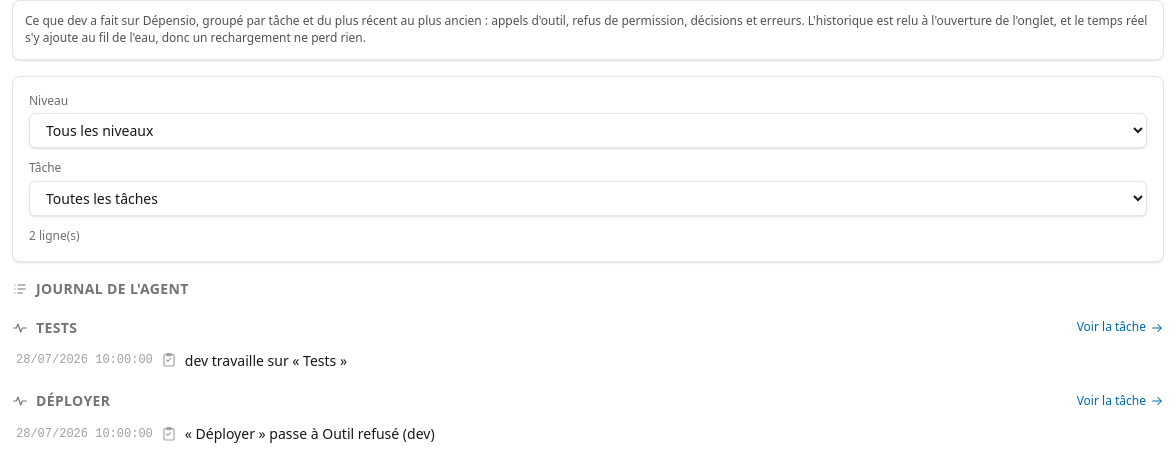
Test case: ③ le filtre par niveau isole une famille › isole les refus d'un seul choix
Select "Refus" in the dropdown labelled "Niveau": (588, 131) [29,113,1147,148]
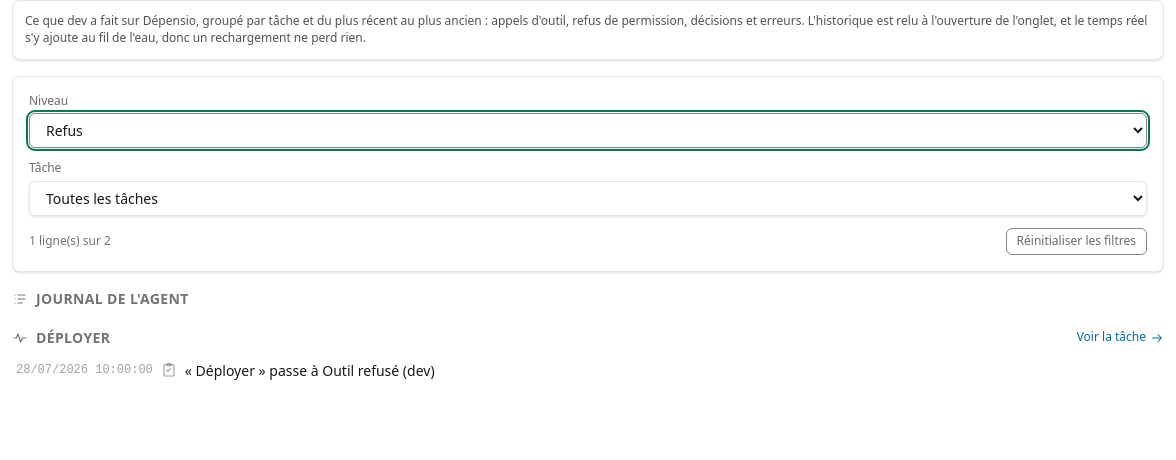
Expected: the element "Déployer" is shown, [12,326,1164,383]
Expected: the heading "Tests" is gone
Expected: the text "1 ligne(s) sur 2" is shown, [29,233,111,250]
